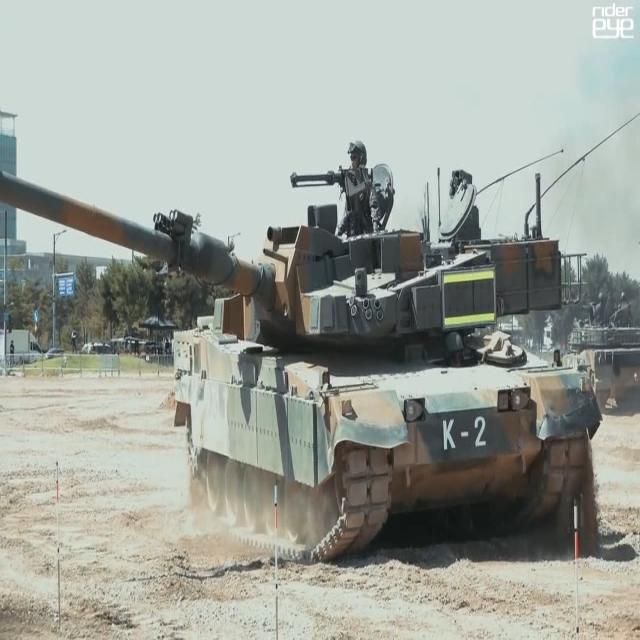korea tank: (1, 140, 603, 558)
